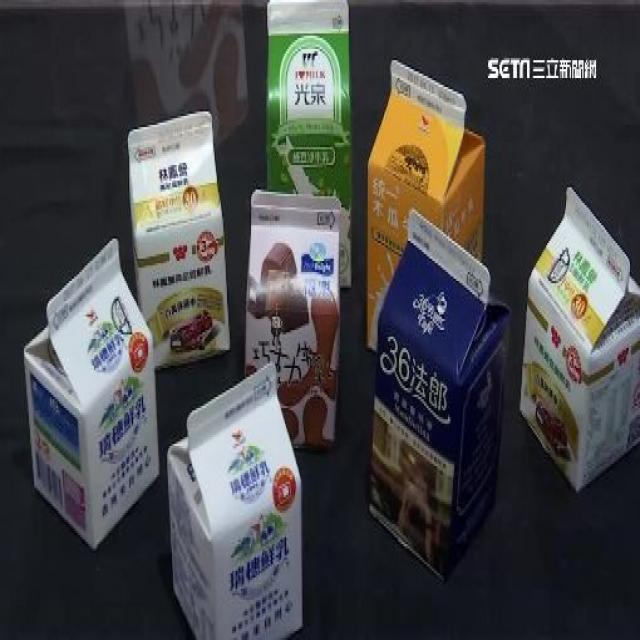non_white_jug: (368, 222, 498, 561), (360, 56, 492, 364), (515, 181, 640, 494), (30, 251, 162, 536), (167, 380, 307, 640), (256, 0, 360, 302), (119, 120, 238, 362), (241, 188, 340, 450)
